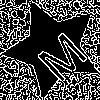M: (28, 23, 91, 85)
